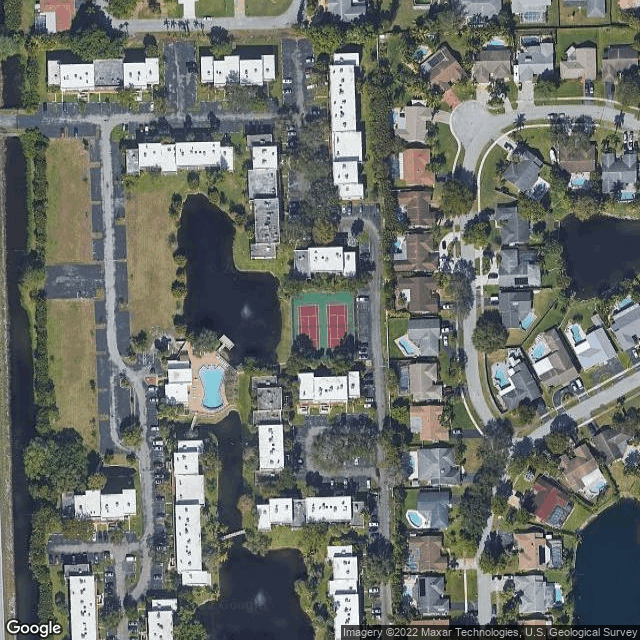Court: (295, 304, 322, 353), (326, 303, 348, 351)
